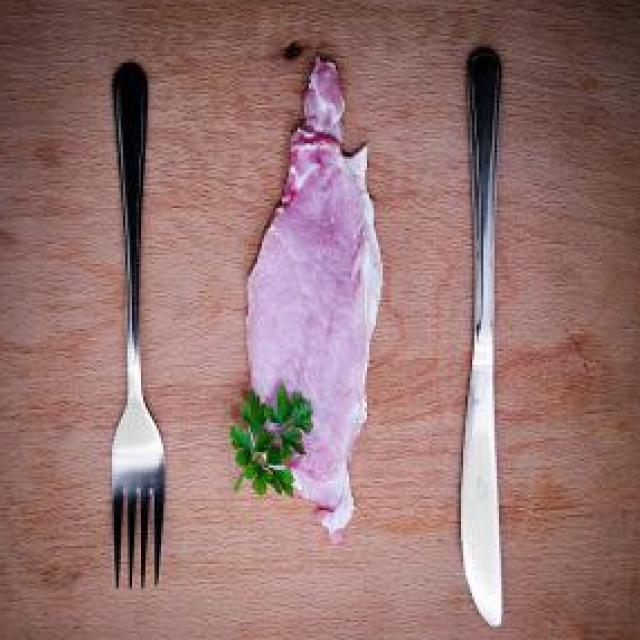knife: (463, 47, 509, 627)
